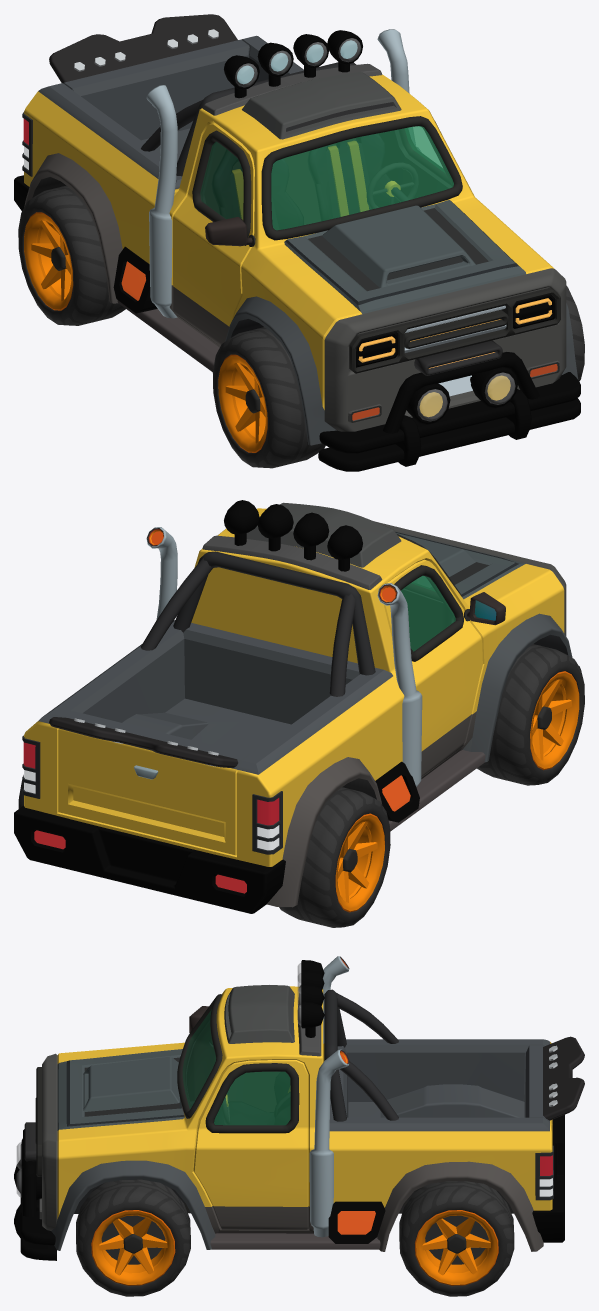
File: car.gltf
3 renders of one model, top to bottom at view 1: azimuth 30°, elevation 25°; view 2: azimuth 150°, elevation 25°; view 3: azimuth 270°, elevation 25°, orthographic. The views are drawn at different scales.
Parts seen in each view (by area): view 1: body, window-front, wheel-front-right, wheel-rear-right, spoilers, pipes, window-right, headlights, steering-wheel, fog-lights, wheel-front-left, window-left (+1 smaller); view 2: body, wheel-front-right, wheel-rear-right, pipes, spoilers, window-right, brake-lights, turbine-lights, reverse-lights; view 3: body, wheel-front-left, wheel-rear-left, pipes, window-left, spoilers, window-front, turbine-lights.
Part boxes in pixels (x1,y1,x2,y2): body: (14,30,580,471); window-front: (271,126,453,230); wheel-front-right: (212,327,325,468); wheel-rear-right: (18,185,125,325); spoilers: (49,14,237,82); pipes: (146,29,420,318); window-right: (200,141,243,219); headlights: (352,298,557,420); steering-wheel: (366,162,418,209); fog-lights: (237,40,357,84); wheel-front-left: (566,285,584,381); window-left: (405,126,444,172); body: (14,500,579,913); wheel-front-right: (477,644,584,785); wheel-rear-right: (279,787,390,927); pipes: (146,527,422,786); spoilers: (49,717,238,768); window-right: (401,576,455,651); brake-lights: (23,742,279,893); turbine-lights: (382,775,410,811); reverse-lights: (24,770,279,850); body: (14,960,564,1260); wheel-front-left: (76,1179,190,1296); wheel-rear-left: (399,1181,514,1296); pipes: (309,956,349,1237); window-left: (214,1071,290,1125); spoilers: (543,1036,584,1120); window-front: (182,1009,215,1108); turbine-lights: (337,1211,375,1234).
Bounding box in the file's own units: 2.5 × 2.35 × 4.72.
14 materials, 14 textured.
